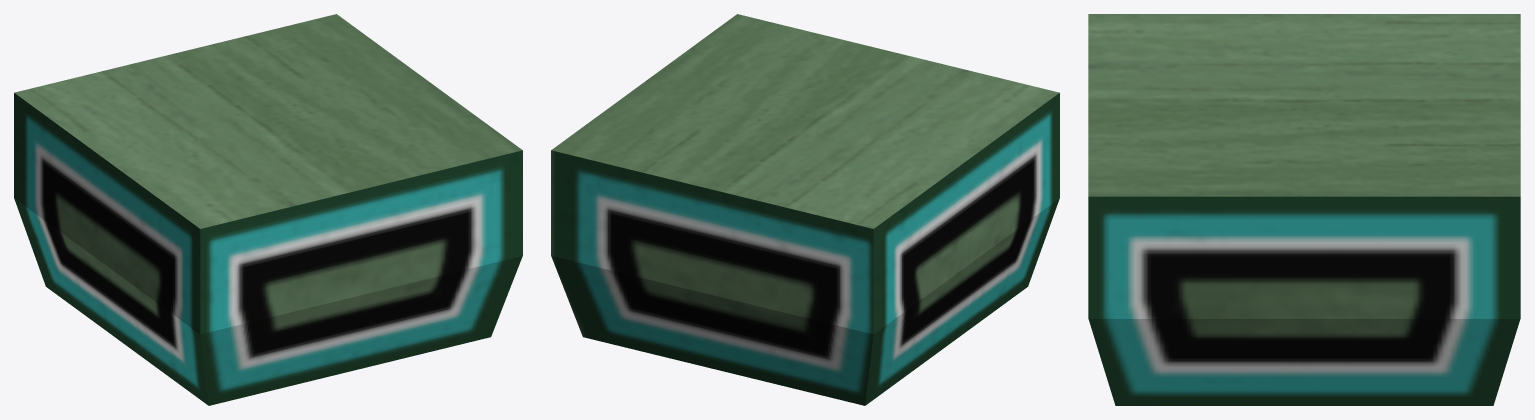
Rendered from SM_YML_West_Soro01A.fbx.
3 views of the same model, side by side, from view 1: azimuth 30°, elevation 25°; view 2: azimuth 150°, elevation 25°; view 3: azimuth 270°, elevation 25° (orthographic). The views are drawn at different scales.
Parts seen in each view (by area): view 1: SM_YML_West_Soro01A; view 2: SM_YML_West_Soro01A; view 3: SM_YML_West_Soro01A.
Boxes of the visible parts, <box> form: SM_YML_West_Soro01A: <box>14,14,522,405</box>; SM_YML_West_Soro01A: <box>551,14,1059,405</box>; SM_YML_West_Soro01A: <box>1088,14,1520,405</box>.
Size of the model in its own units: 16 by 16 by 9.02.
1 material, 1 textured.
